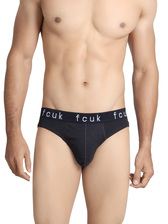clothoes: (34, 105, 132, 169)
